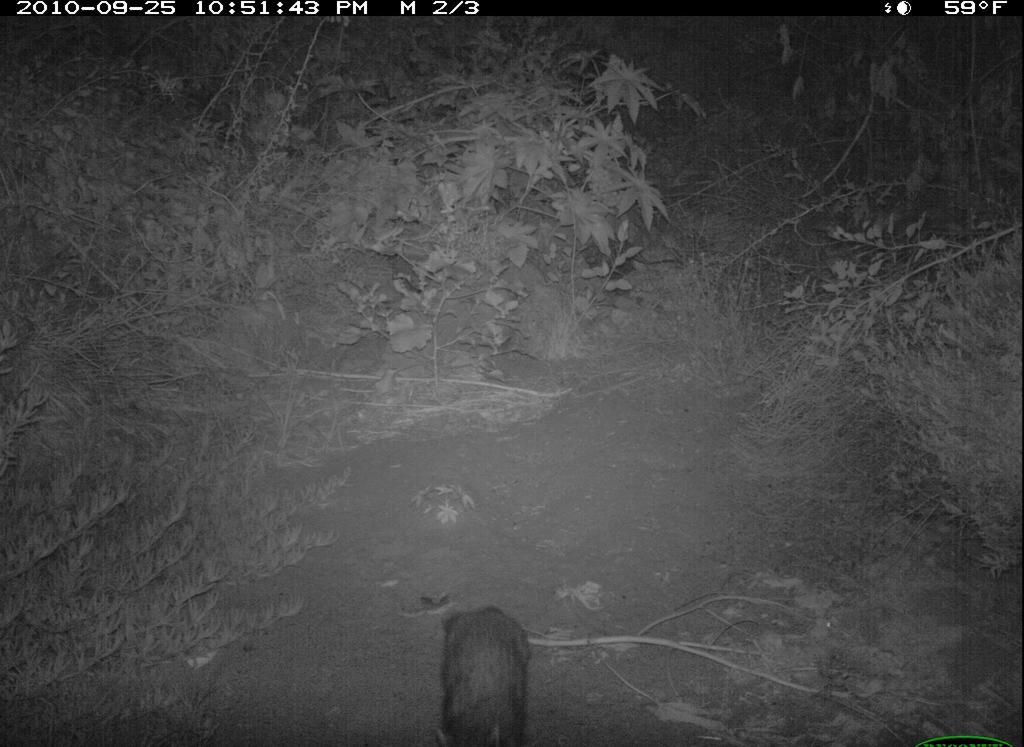raccoon: (422, 583, 539, 747)
